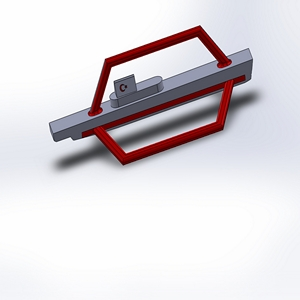submarine: (44, 23, 270, 183)
